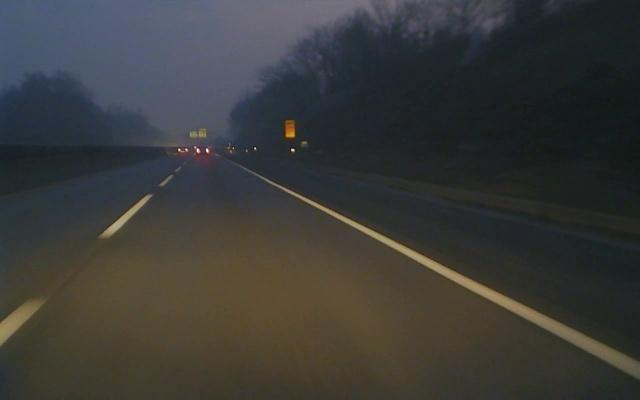lane: (226, 158, 640, 380), (0, 153, 193, 351)
